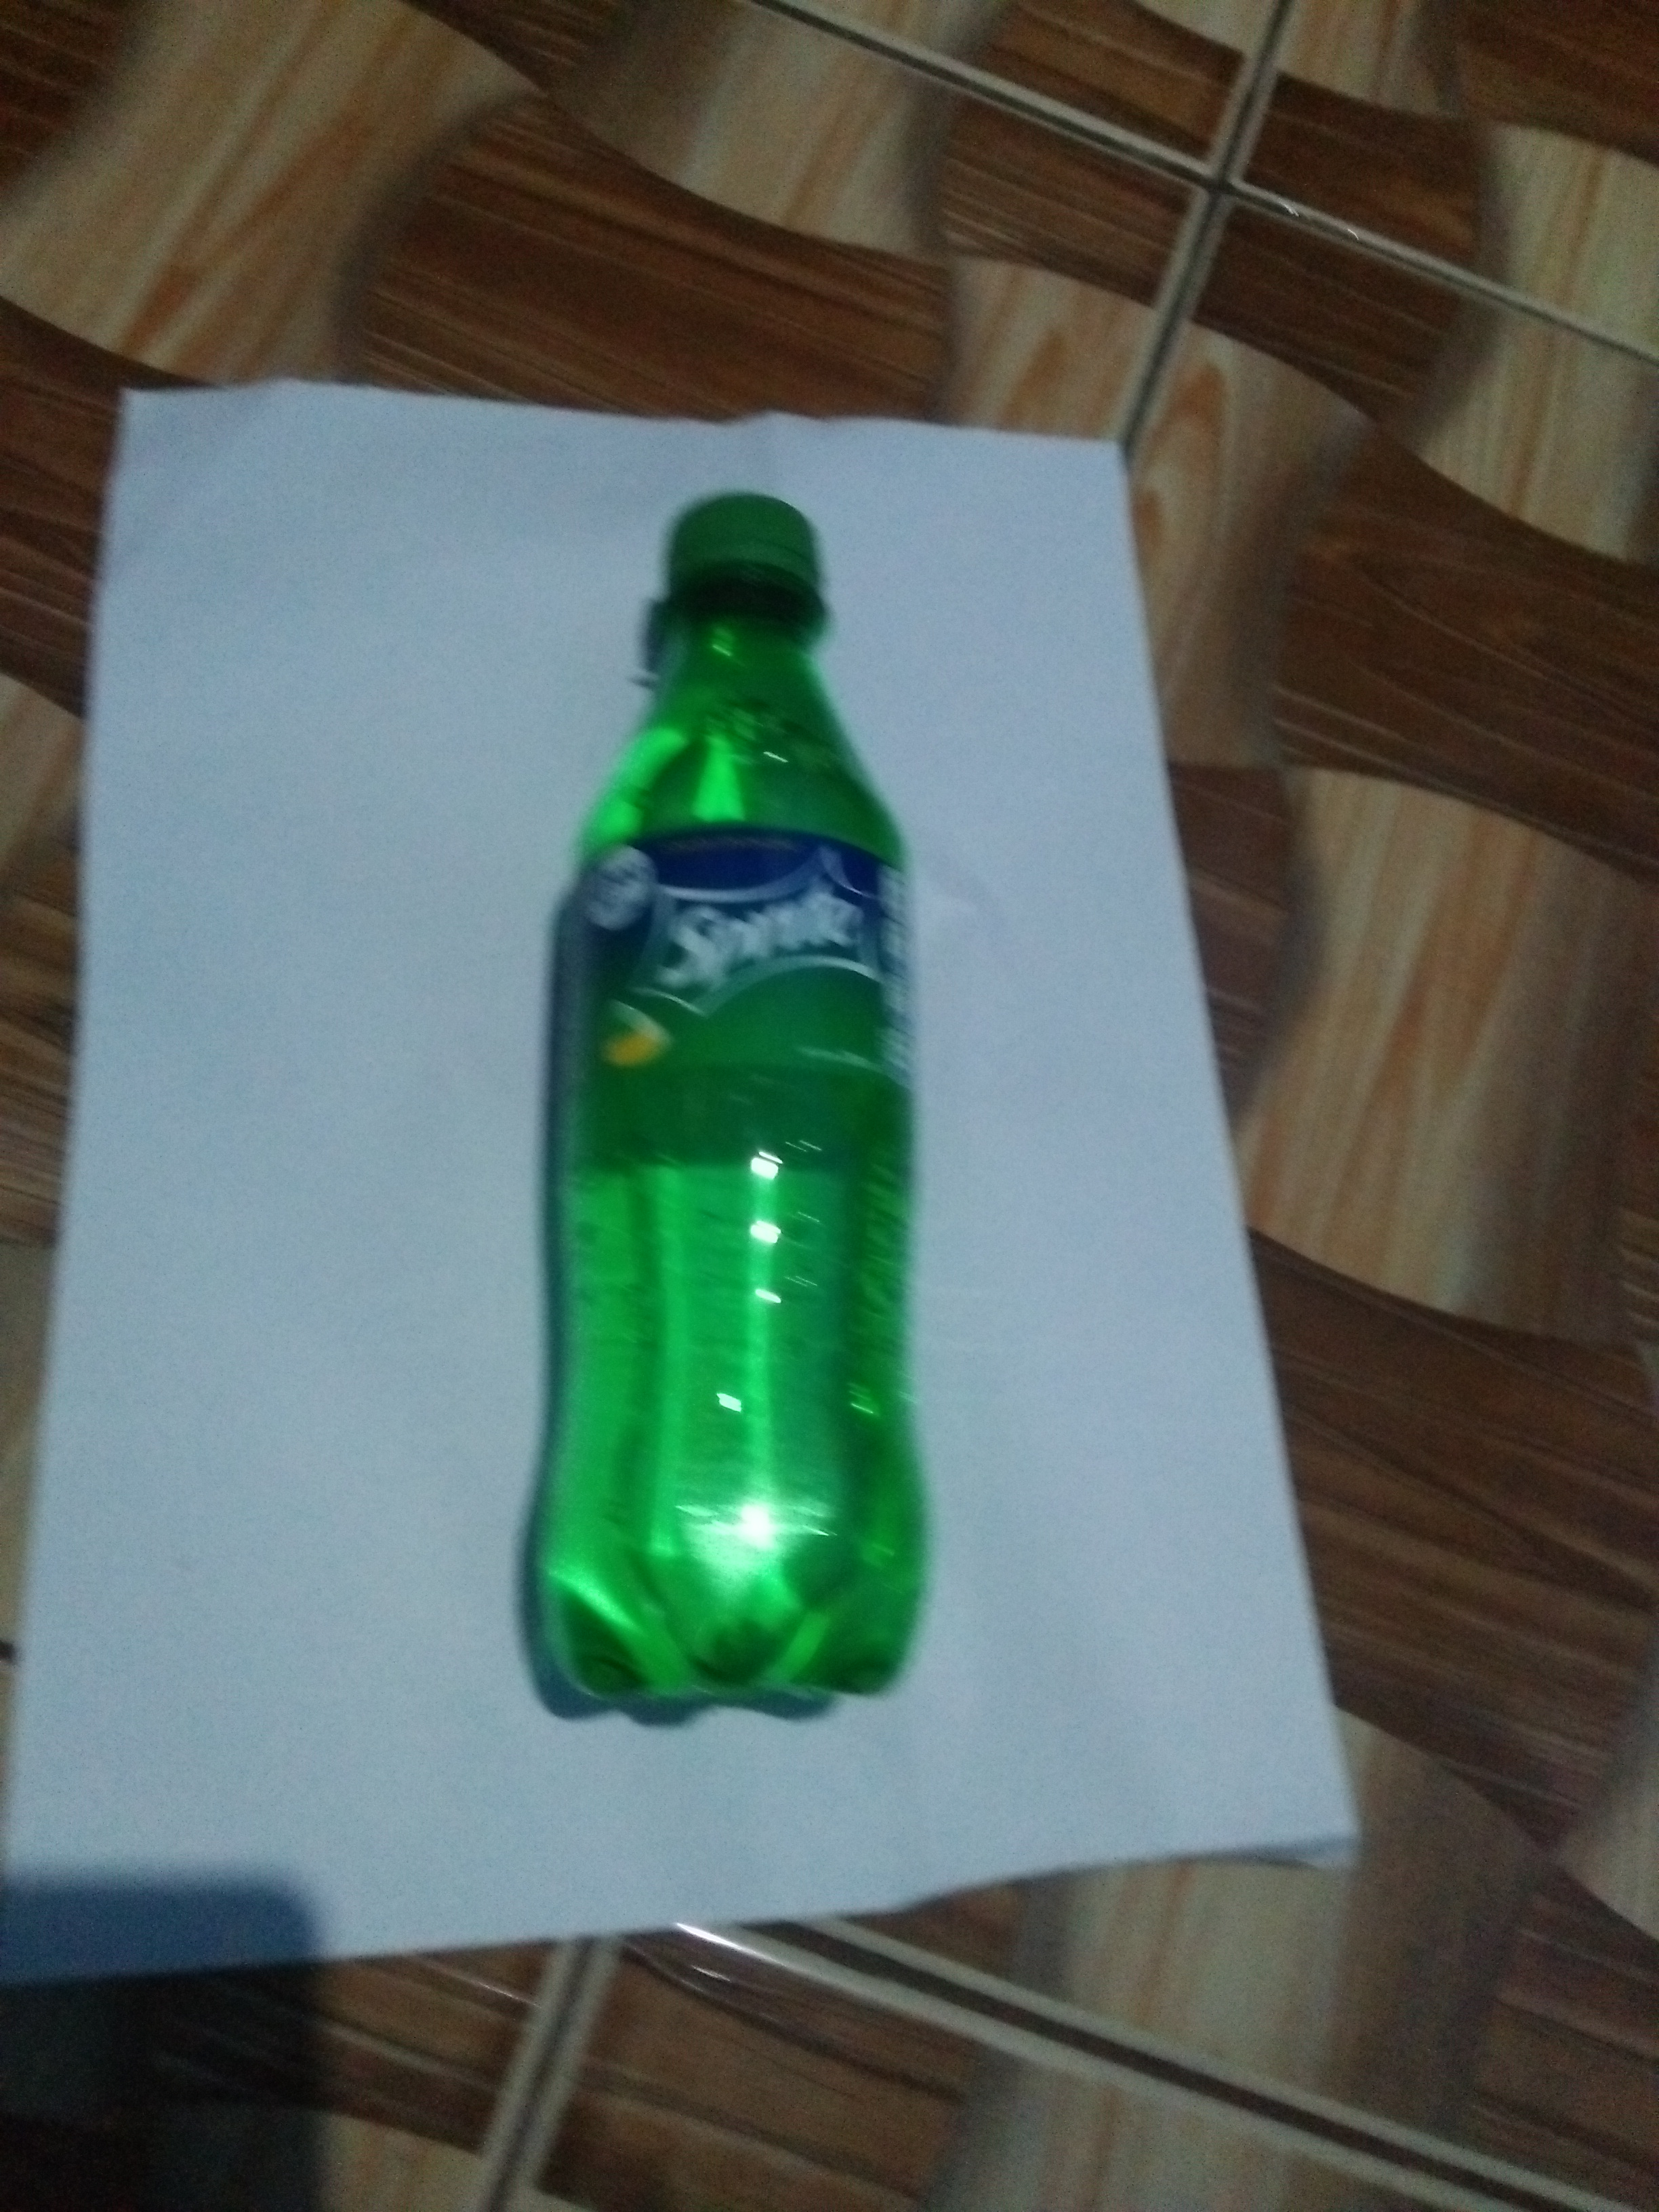Sprite: (505, 479, 950, 1745)
